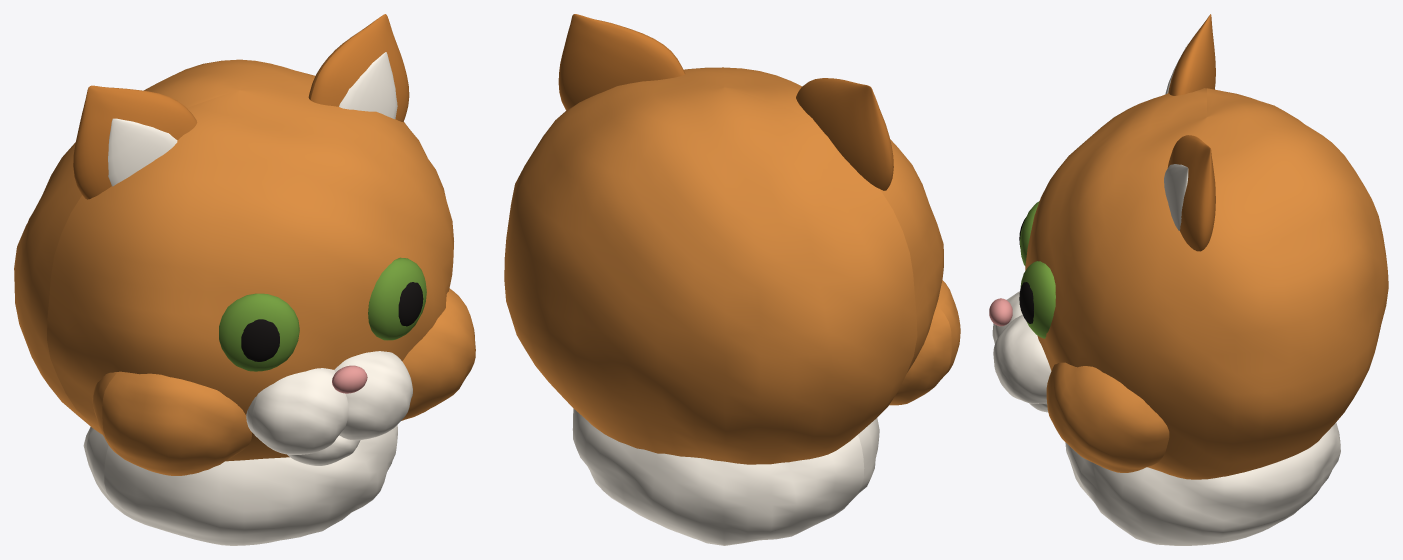
Rendered from head-cat-tabby.glb.
3 renders of one model, left to right at view 1: azimuth 30°, elevation 25°; view 2: azimuth 150°, elevation 25°; view 3: azimuth 270°, elevation 25°, orthographic. The views are drawn at different scales.
Visible parts, largest first — view 1: PM_FUR_MAIN_1, PM_FUR_SECONDARY_16, PM_FUR_MAIN_2, PM_FUR_SECONDARY_4, PM_EARS_12, PM_FUR_MAIN_3, PM_FUR_SECONDARY_5, PM_EARS_14, PM_EYES_7, PM_FUR_SECONDARY_13, PM_EYES_9, PM_FUR_SECONDARY_15 (+4 smaller); view 2: PM_FUR_MAIN_1, PM_FUR_SECONDARY_16, PM_EARS_14, PM_EARS_12, PM_FUR_MAIN_2; view 3: PM_FUR_MAIN_1, PM_FUR_SECONDARY_16, PM_FUR_MAIN_3, PM_FUR_SECONDARY_5, PM_EARS_14, PM_EARS_12, PM_EYES_9, PM_FUR_SECONDARY_15, PM_NOSE_11, PM_EYES_7, Eyes_Pupil_10.
Part boxes in pixels (<box>): PM_FUR_MAIN_1: <box>14,59,453,461</box>; PM_FUR_SECONDARY_16: <box>83,425,397,545</box>; PM_FUR_MAIN_2: <box>92,371,251,475</box>; PM_FUR_SECONDARY_4: <box>246,368,348,454</box>; PM_EARS_12: <box>73,85,197,199</box>; PM_FUR_MAIN_3: <box>401,288,475,420</box>; PM_FUR_SECONDARY_5: <box>334,351,412,440</box>; PM_EARS_14: <box>308,14,409,122</box>; PM_EYES_7: <box>219,293,299,371</box>; PM_FUR_SECONDARY_13: <box>108,118,177,186</box>; PM_EYES_9: <box>368,257,426,340</box>; PM_FUR_SECONDARY_15: <box>339,52,397,119</box>; PM_FUR_MAIN_1: <box>504,67,943,464</box>; PM_FUR_SECONDARY_16: <box>572,408,879,545</box>; PM_EARS_14: <box>558,14,685,110</box>; PM_EARS_12: <box>796,78,893,190</box>; PM_FUR_MAIN_2: <box>889,280,960,405</box>; PM_FUR_MAIN_1: <box>1025,88,1388,479</box>; PM_FUR_SECONDARY_16: <box>1065,422,1340,545</box>; PM_FUR_MAIN_3: <box>1046,362,1169,472</box>; PM_FUR_SECONDARY_5: <box>993,315,1051,403</box>; PM_EARS_14: <box>1167,135,1215,251</box>; PM_EARS_12: <box>1168,14,1215,95</box>; PM_EYES_9: <box>1020,261,1055,338</box>; PM_FUR_SECONDARY_15: <box>1164,164,1188,230</box>; PM_NOSE_11: <box>989,298,1012,326</box>; PM_EYES_7: <box>1020,201,1039,266</box>; Eyes_Pupil_10: <box>1019,282,1033,323</box>.
Size of the model in its own units: 0.0689 by 0.0808 by 0.066.
